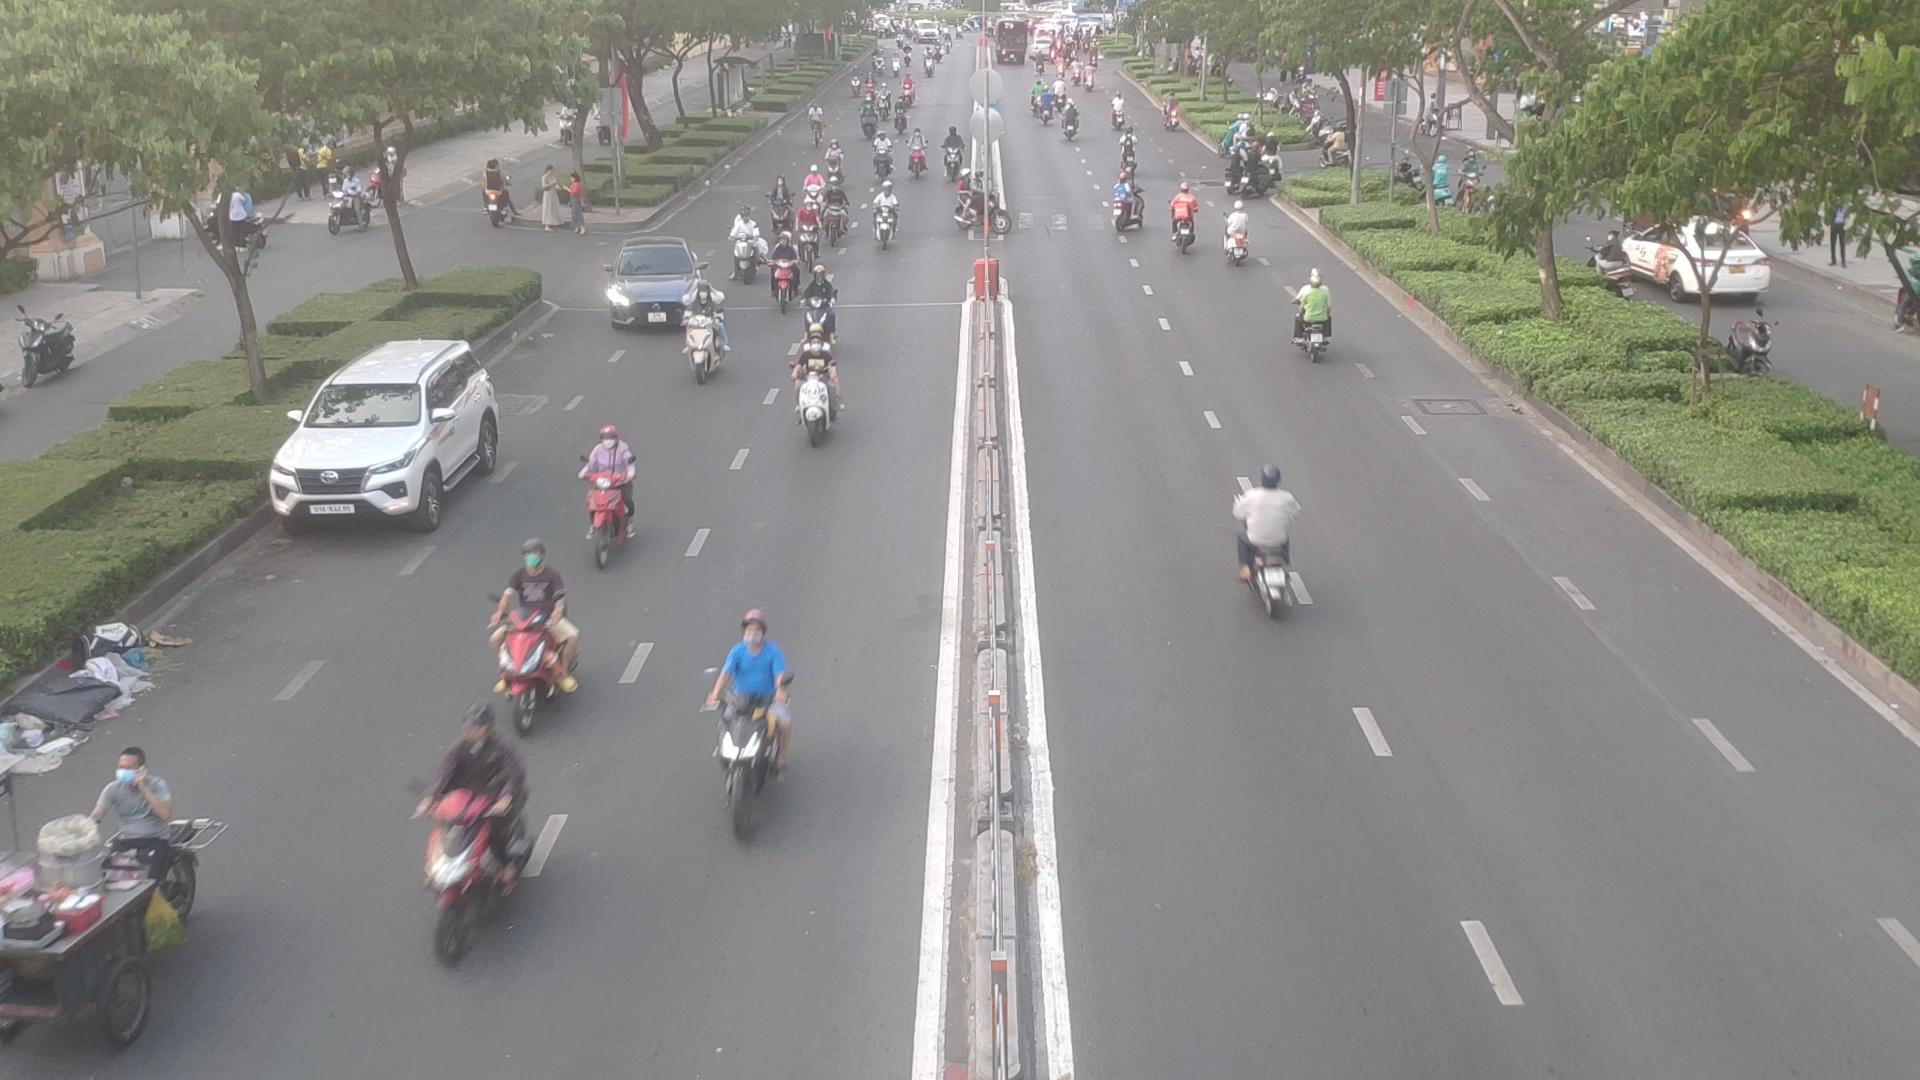car: (276, 340, 516, 531), (597, 247, 717, 332)
motorbike: (407, 712, 541, 944), (694, 620, 794, 833), (1228, 465, 1323, 617), (477, 556, 570, 709), (92, 764, 218, 872), (497, 600, 591, 725), (572, 427, 646, 553), (786, 332, 853, 443), (1288, 278, 1348, 360), (679, 313, 738, 389), (953, 181, 1011, 239), (764, 236, 800, 309), (721, 220, 761, 280), (1167, 189, 1203, 255), (866, 187, 903, 251), (1112, 179, 1150, 233), (1222, 199, 1251, 268), (825, 182, 851, 253), (767, 174, 794, 233), (1116, 127, 1141, 179), (940, 128, 964, 179), (800, 202, 818, 272), (869, 132, 895, 175), (907, 138, 934, 181), (1059, 108, 1085, 142), (824, 140, 847, 179)
